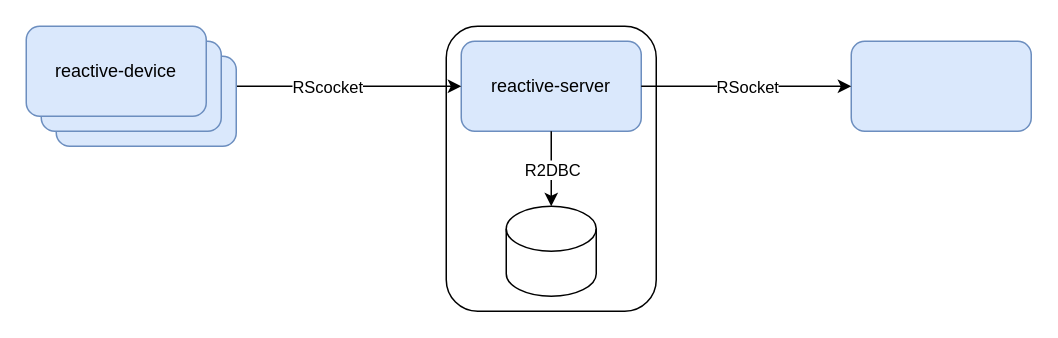
This 1058x338 diagram has some shape labels left out. Each missing label, with the centre of its shape:
"DB" goes at (550,250).
"reactive-web" goes at (940,85).
